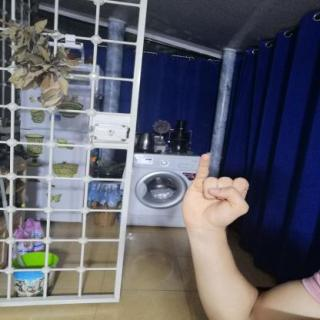MEEM: (176, 150, 259, 234)
